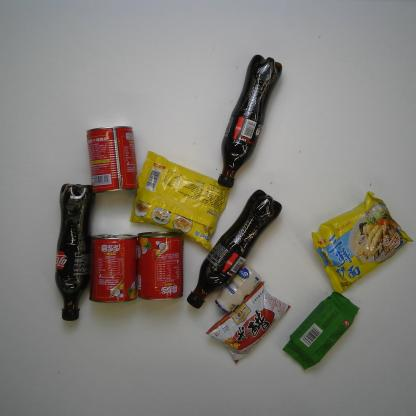Canned Food: (133, 227, 190, 303), (80, 122, 138, 196), (89, 231, 140, 304)
Dessert: (279, 288, 364, 371)
Drink: (183, 184, 286, 312), (212, 50, 286, 188), (52, 180, 96, 324)
Instant Noodles: (305, 189, 416, 298), (127, 146, 232, 252)
Milk: (212, 262, 265, 315)
Seasoner: (205, 279, 292, 365)
